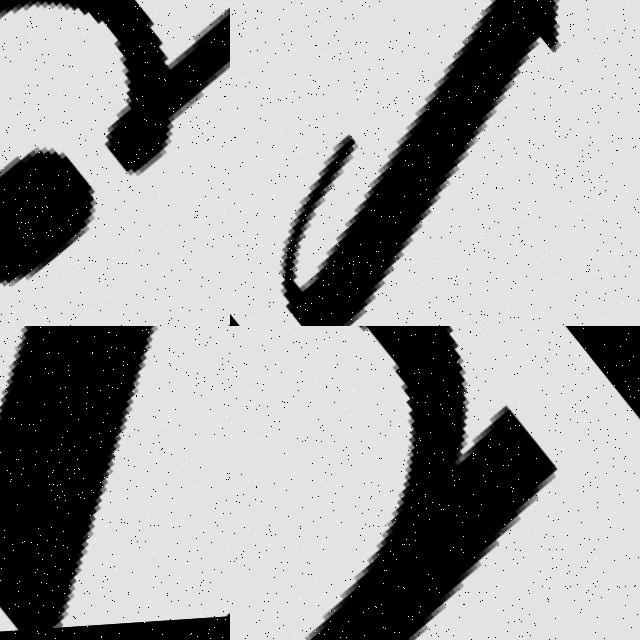5: (0, 0, 230, 326)
R: (230, 326, 640, 640)
T: (230, 0, 640, 326)
Z: (0, 326, 230, 640)
